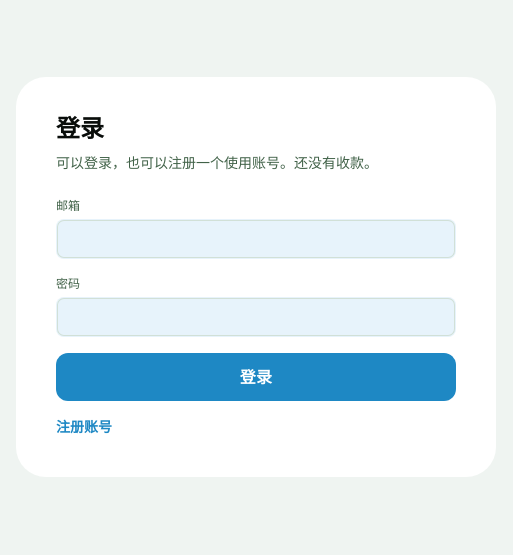
Scenario: 开放注册时可以切到注册
Click the button "注册账号" at (84, 427), box 56,417 -> 112,437
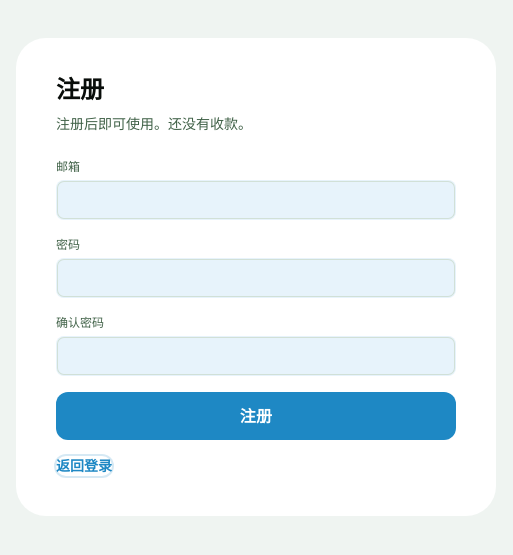
expect the heading "注册" is shown: met, box 56,75 -> 104,104
expect the text "注册后即可使用。还没有收款。" is shown: met, box 56,115 -> 252,132
Type "long-test-password" into the password field labelled "密码" at (256, 278), box 56,258 -> 456,298
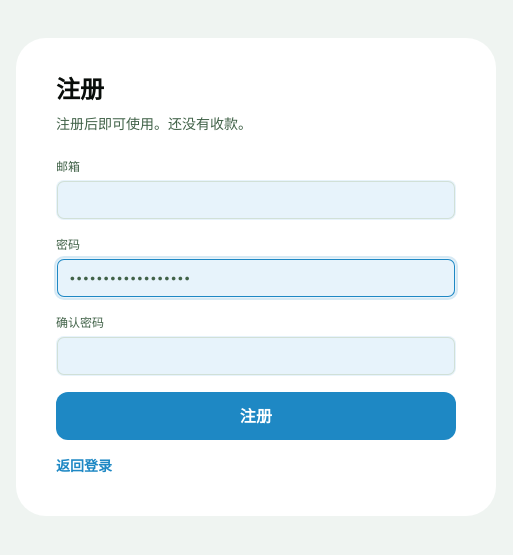
Type "other-long-password" into the password field labelled "确认密码" at (256, 356), box 56,336 -> 456,376
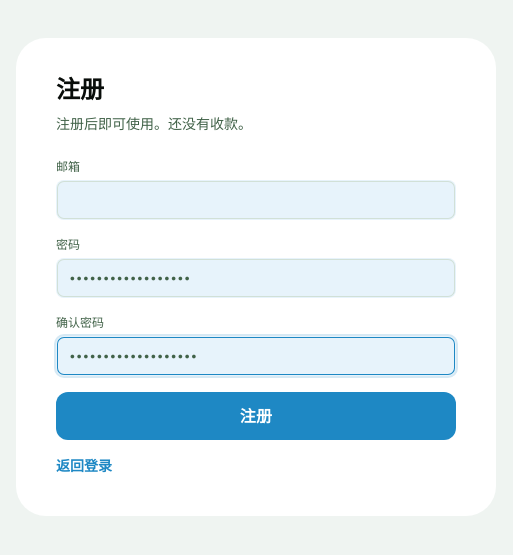
Click the button "注册" at (256, 416), box 56,392 -> 456,440
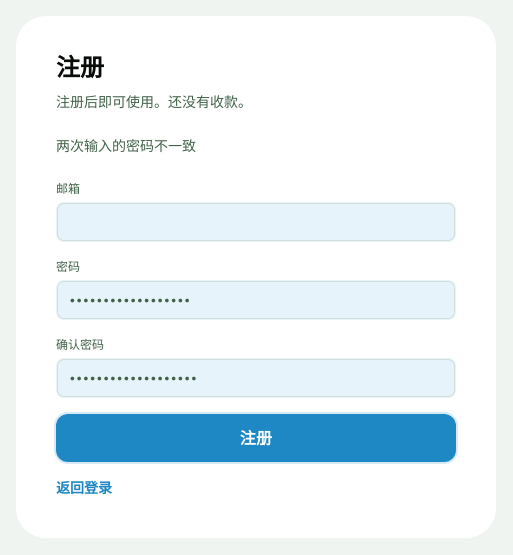
expect the message reads "两次输入的密码不一致": met, box 56,137 -> 196,154
Type "long-test-password" into the password field labelled "确认密码" at (256, 378), box 56,358 -> 456,398
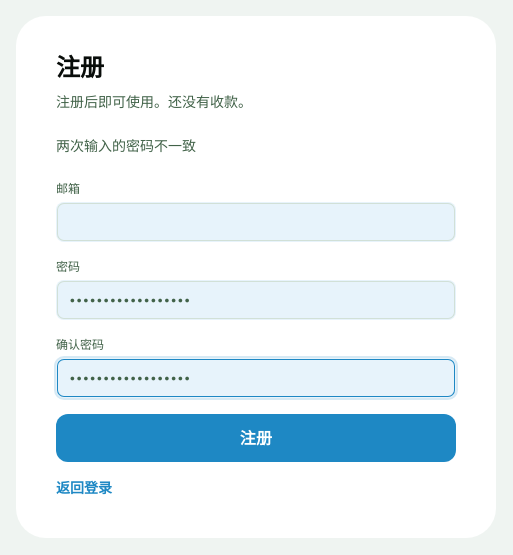
Click the button "注册" at (256, 438), box 56,414 -> 456,462
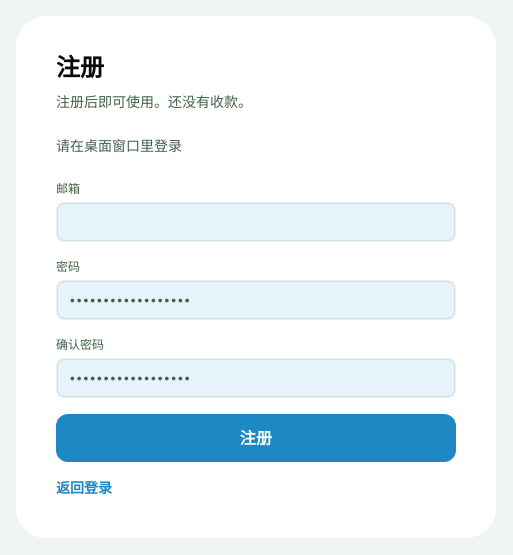
expect the message reads "请在桌面窗口里登录": met, box 56,137 -> 182,154
